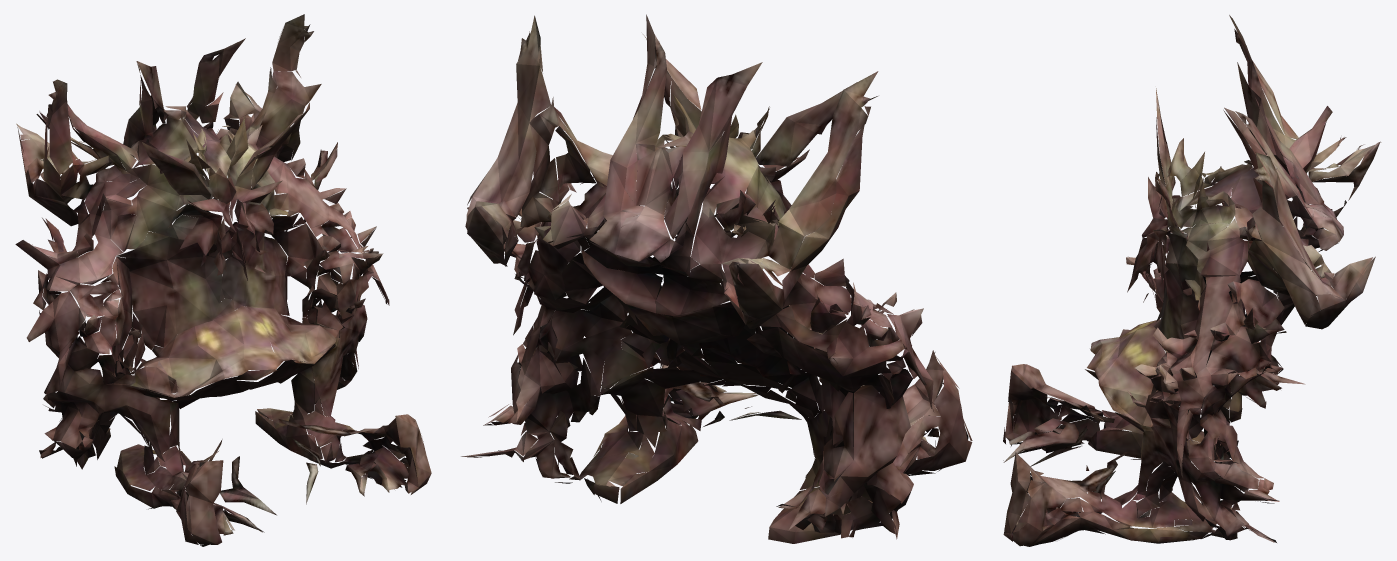
The picture shows the model from 3 angles, left to right: view 1: azimuth 30°, elevation 25°; view 2: azimuth 150°, elevation 25°; view 3: azimuth 270°, elevation 25°; orthographic projection. The views are drawn at different scales.
Visible parts, largest first — view 1: world; view 2: world; view 3: world.
Boxes of the visible parts, box(x1,y1,x2,y2) form: world: box(15, 14, 431, 546); world: box(461, 14, 972, 543); world: box(1003, 15, 1381, 546).
Size of the model in its own units: 0.9005 by 0.9852 by 0.8372.
Materials: 1 (1 with a texture image).
